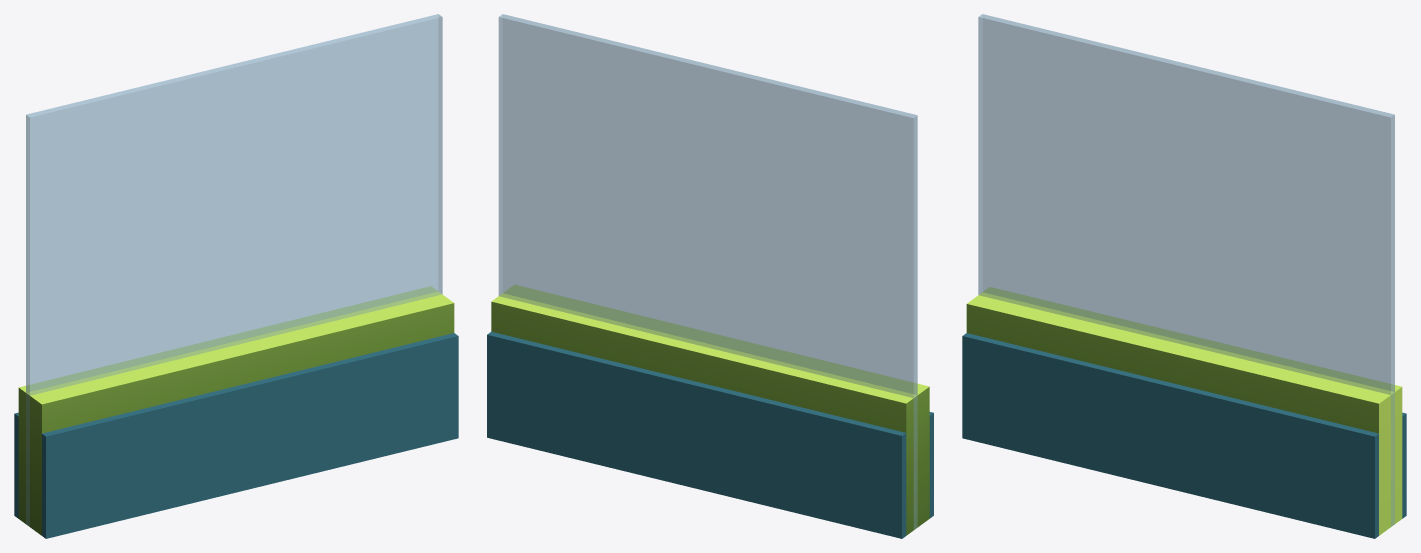
Rendered from M1_Wall_03_Glass.fbx.
3 renders of one model, left to right at view 1: azimuth 30°, elevation 25°; view 2: azimuth 150°, elevation 25°; view 3: azimuth 330°, elevation 25°, orthographic.
Parts seen in each view (by area): view 1: M1_Wall_03_Glass; view 2: M1_Wall_03_Glass; view 3: M1_Wall_03_Glass.
Part boxes in pixels (x1=…): M1_Wall_03_Glass: x1=14, y1=14, x2=458, y2=538; M1_Wall_03_Glass: x1=487, y1=14, x2=933, y2=538; M1_Wall_03_Glass: x1=962, y1=14, x2=1406, y2=538.
Bounding box in the file's own units: 400 × 380 × 53.06.
